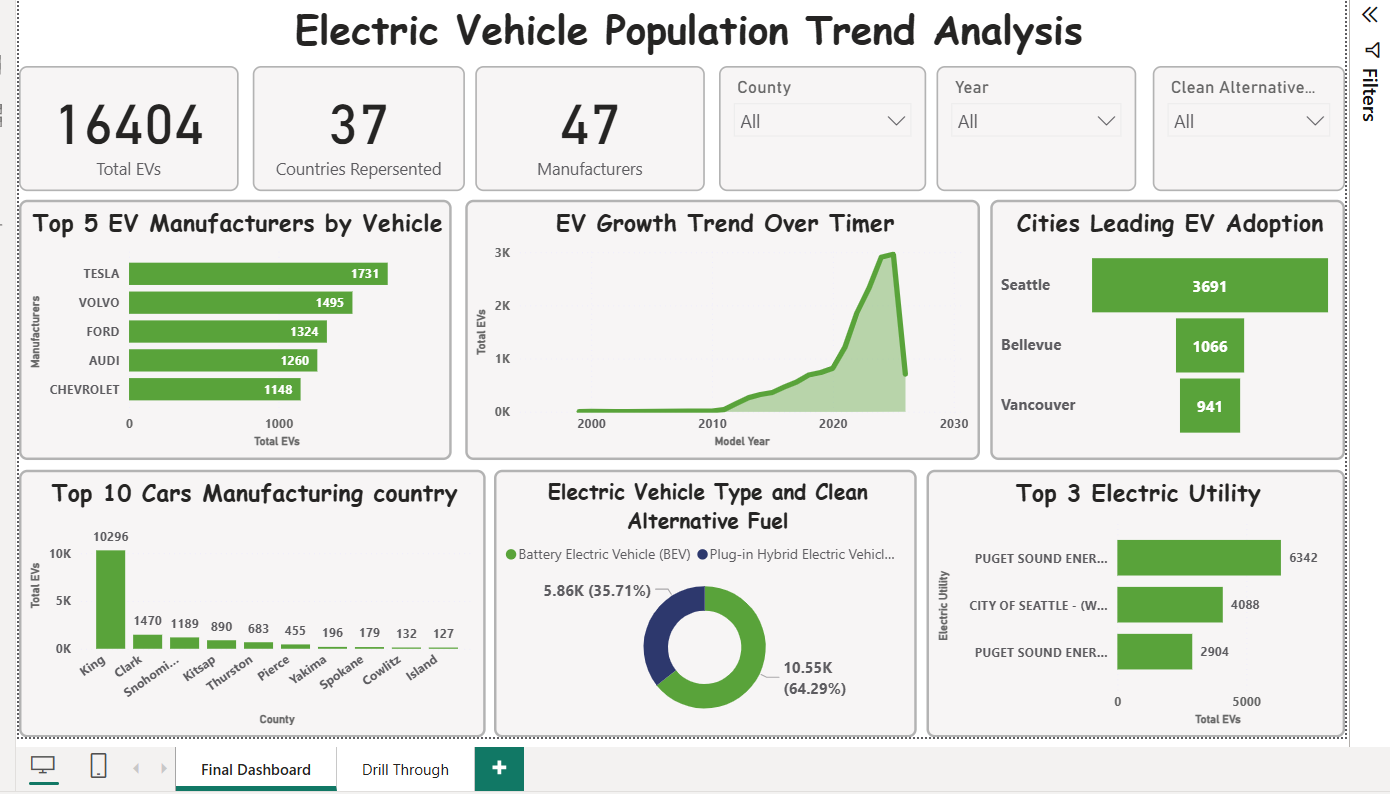

The dashboard page shown, as its layout file describes it:
{"tool":"powerbi","page":{"name":"Final Dashboard","canvas":[1280,720],"ordinal":0},"visuals":[{"type":"card","fields":{"Values":["Electric_Vehicle_Population_Data.Total Cars"]},"box":[0,72.4,212.3,120.6],"z":0},{"type":"textbox","box":[150,420,300,300],"z":1000},{"type":"textbox","box":[190.6,0,896.4,67.6],"z":2000},{"type":"clusteredBarChart","title":"Top 5 EV Manufacturers by Vehicle","fields":{"Category":["Electric_Vehicle_Population_Data.Manufacture","Electric_Vehicle_Population_Data.Model"],"Y":["Electric_Vehicle_Population_Data.Total Cars"]},"box":[0,201.5,417.4,250.9],"z":3000},{"type":"stackedAreaChart","title":"EV Growth Trend Over Timer","fields":{"Category":["Electric_Vehicle_Population_Data.Model Year","Electric_Vehicle_Population_Data.Manufacture"],"Y":["Electric_Vehicle_Population_Data.Total Cars"]},"box":[430.7,201.5,497.1,250.9],"z":4000},{"type":"clusteredColumnChart","title":"Top 10 Cars Manufacturing country","fields":{"Y":["Electric_Vehicle_Population_Data.Total Cars"],"Category":["Electric_Vehicle_Population_Data.County"]},"box":[0,462.1,450,258.2],"z":5000},{"type":"donutChart","title":" Electric Vehicle Type and Clean Alternative Fuel ","fields":{"Category":["Electric_Vehicle_Population_Data.Electric Vehicle Type","Electric_Vehicle_Population_Data.Clean Alternative Fuel Vehicle (CAFV) Eligibility"],"Y":["Electric_Vehicle_Population_Data.Total Cars"]},"box":[458.4,462.1,407.8,258.2],"z":6000},{"type":"card","fields":{"Values":["Electric_Vehicle_Population_Data.Total Countries"]},"box":[225.6,72.4,205.1,120.6],"z":8000},{"type":"funnel","title":"Cities Leading EV Adoption","fields":{"Category":["Electric_Vehicle_Population_Data.City"],"Y":["Electric_Vehicle_Population_Data.Total Cars"]},"box":[937.4,201.5,342.6,250.9],"z":9000},{"type":"card","fields":{"Values":["Electric_Vehicle_Population_Data.Total Manufutures"]},"box":[440.4,72.4,222,120.6],"z":10000},{"type":"slicer","fields":{"Values":["Electric_Vehicle_Population_Data.Model Year"]},"box":[885.5,72.4,193,120.6],"z":11000},{"type":"clusteredBarChart","title":"Top 3 Electric Utility","fields":{"Category":["Electric_Vehicle_Population_Data.Electric Utility","Electric_Vehicle_Population_Data.Manufacture","Electric_Vehicle_Population_Data.Model"],"Y":["Electric_Vehicle_Population_Data.Total Cars"]},"box":[875.9,462.1,404.2,258.2],"z":12000},{"type":"slicer","fields":{"Values":["Electric_Vehicle_Population_Data.County"]},"box":[675.6,72.4,200.3,120.6],"z":13000},{"type":"slicer","fields":{"Values":["Electric_Vehicle_Population_Data.Clean Alternative Fuel Vehicle (CAFV) Eligibility"]},"box":[1094.2,72.4,185.8,120.6],"z":14000}]}

Visuals, with their boxes on the page's 1280x720 design canvas (x1, y1, x2, y2). These are canvas units, not pixel positions in the 1390x794 screenshot, which may show the page scaled, cropped or inside an application window:
card - Electric_Vehicle_Population_Data.Total Cars: box=[0, 72, 212, 193]
textbox: box=[150, 420, 450, 720]
textbox: box=[191, 0, 1087, 68]
"Top 5 EV Manufacturers by Vehicle" clusteredBarChart: box=[0, 202, 417, 452]
"EV Growth Trend Over Timer" stackedAreaChart: box=[431, 202, 928, 452]
"Top 10 Cars Manufacturing country" clusteredColumnChart: box=[0, 462, 450, 720]
" Electric Vehicle Type and Clean Alternative Fuel " donutChart: box=[458, 462, 866, 720]
card - Electric_Vehicle_Population_Data.Total Countries: box=[226, 72, 431, 193]
"Cities Leading EV Adoption" funnel: box=[937, 202, 1280, 452]
card - Electric_Vehicle_Population_Data.Total Manufutures: box=[440, 72, 662, 193]
slicer - Electric_Vehicle_Population_Data.Model Year: box=[886, 72, 1078, 193]
"Top 3 Electric Utility" clusteredBarChart: box=[876, 462, 1280, 720]
slicer - Electric_Vehicle_Population_Data.County: box=[676, 72, 876, 193]
slicer - Electric_Vehicle_Population_Data.Clean Alternative Fuel Vehicle (CAFV) Eligibility: box=[1094, 72, 1280, 193]
